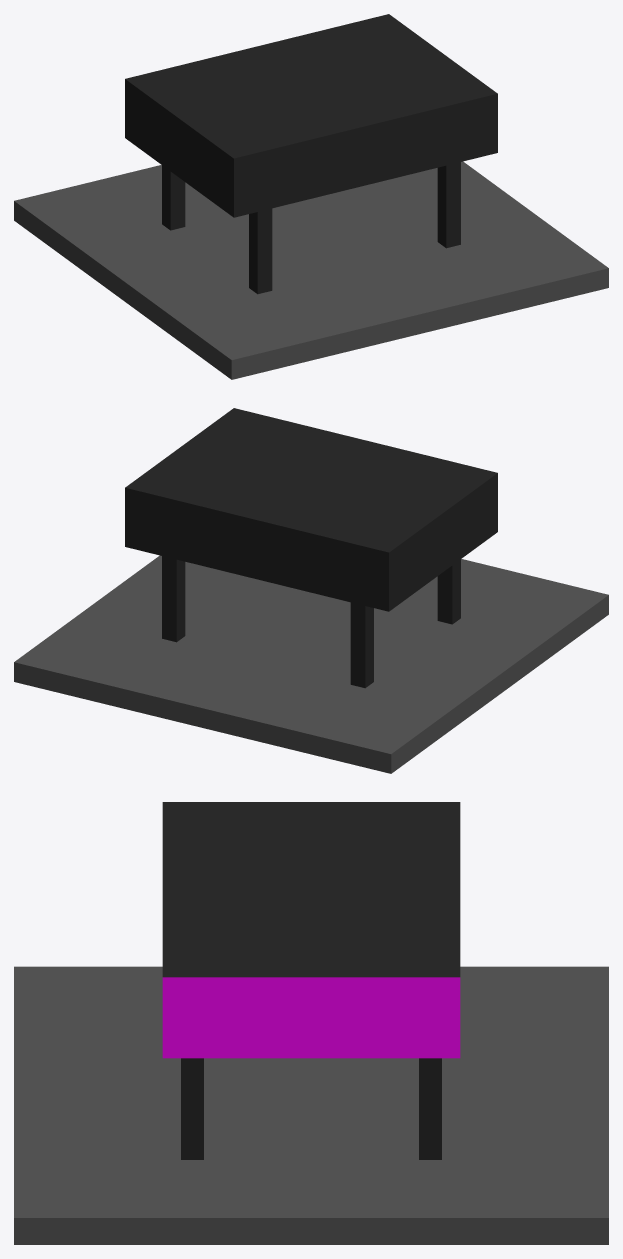
The model's file is papi_single.fbx.
3 renders of one model, top to bottom at view 1: azimuth 30°, elevation 25°; view 2: azimuth 150°, elevation 25°; view 3: azimuth 270°, elevation 25°, orthographic. The views are drawn at different scales.
Parts seen in each view (by area): view 1: papi_base, papi_head; view 2: papi_base, papi_head; view 3: papi_base, papi_head.
Boxes of the visible parts, x1,y1,x2,y2 form: papi_base: (14, 161, 608, 379); papi_head: (125, 14, 497, 217); papi_base: (14, 555, 608, 773); papi_head: (125, 408, 497, 611); papi_base: (14, 966, 608, 1244); papi_head: (162, 802, 460, 1058).
Bounding box in the file's own units: 200 × 85.22 × 200.
